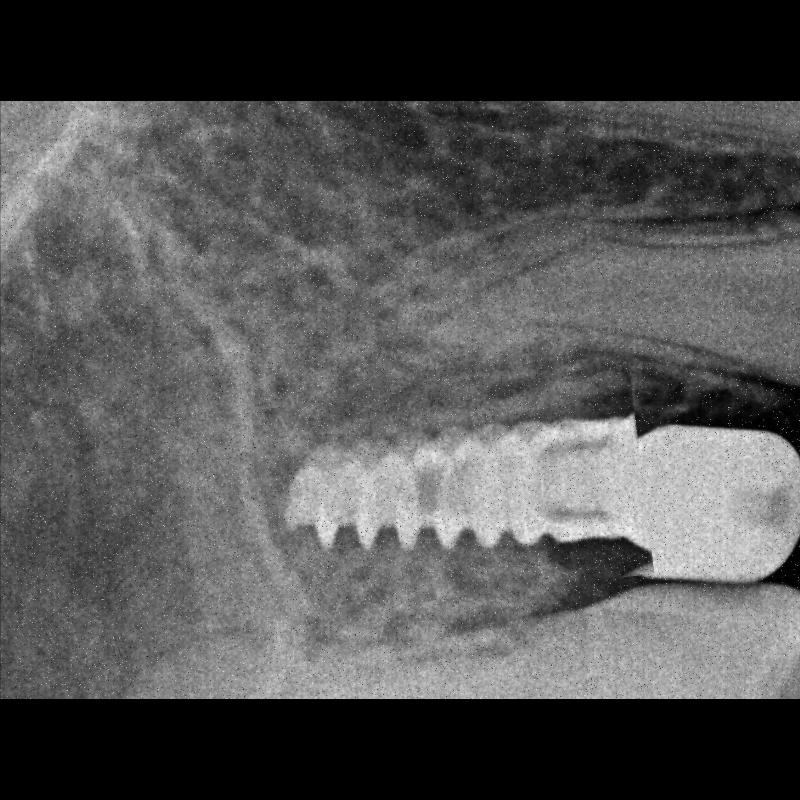ADIN: (256, 376, 648, 608)
